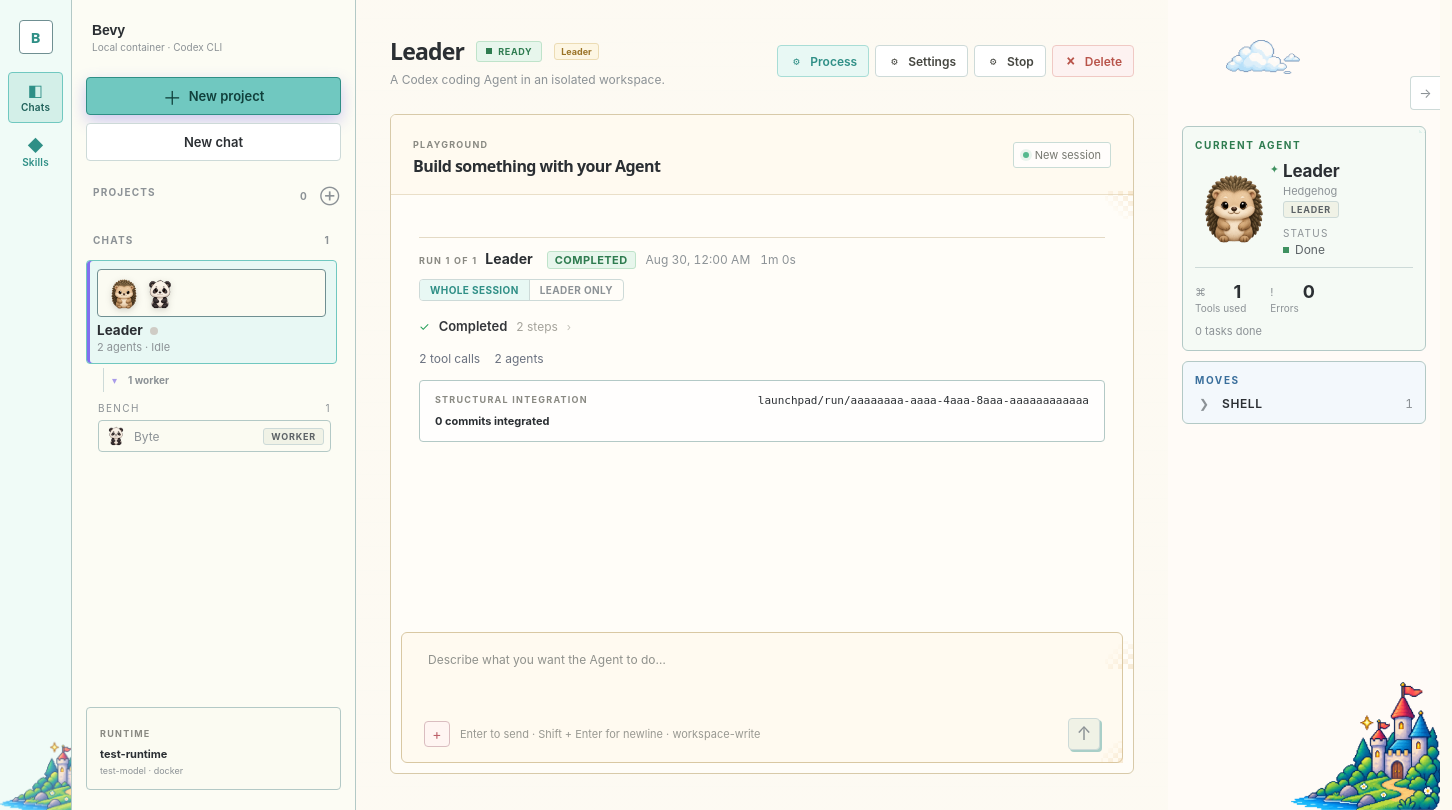
Test: the agent panel › never puts the control anywhere but the header and the panel itself
Expected: the heading "Leader" next to "ready" is shown, [390,35,464,67]
Expected: the element with class "rail" is shown, [1168,0,1440,809]
Click the button "Process": [823, 61] box [777,45,869,77]
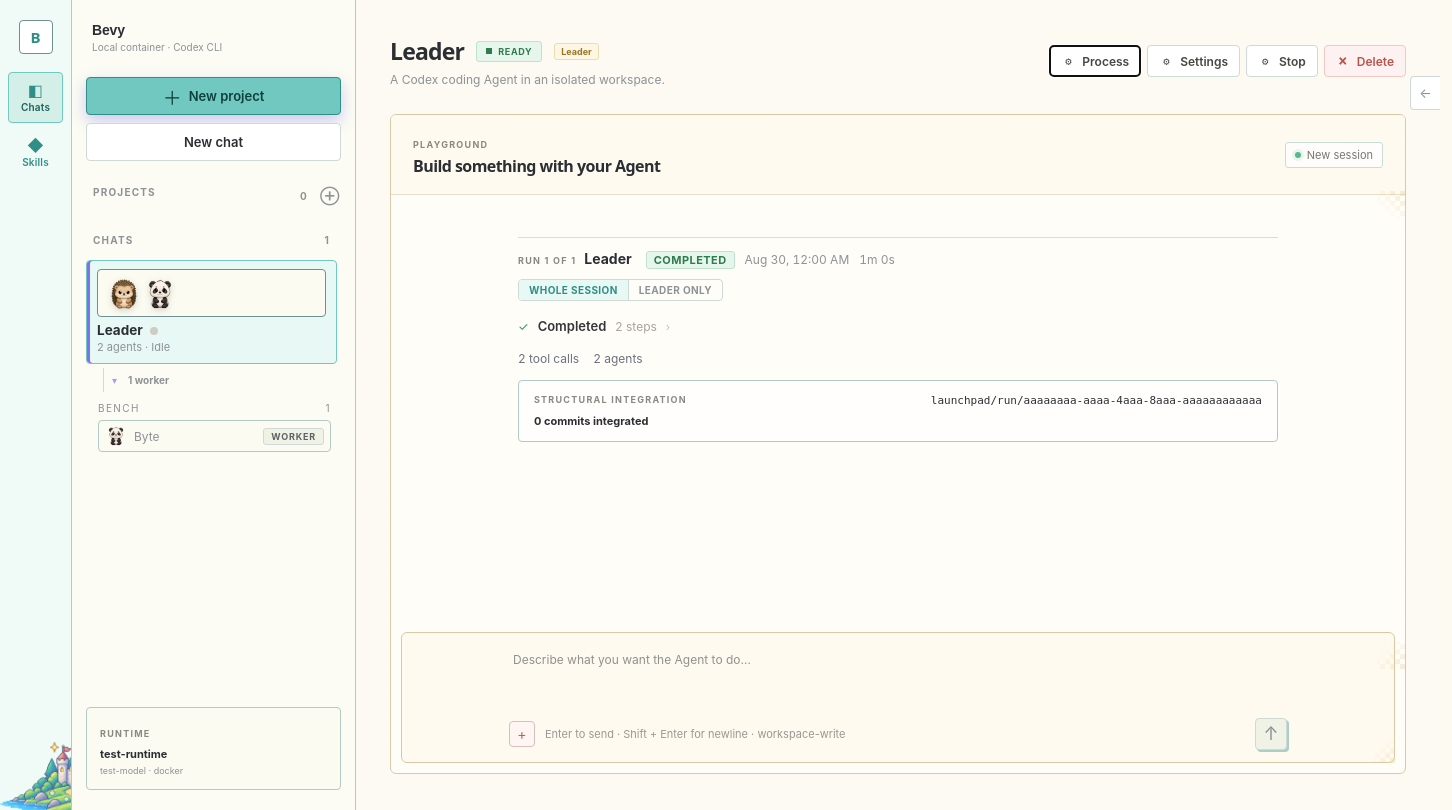
Result: the element with class "rail" is gone
